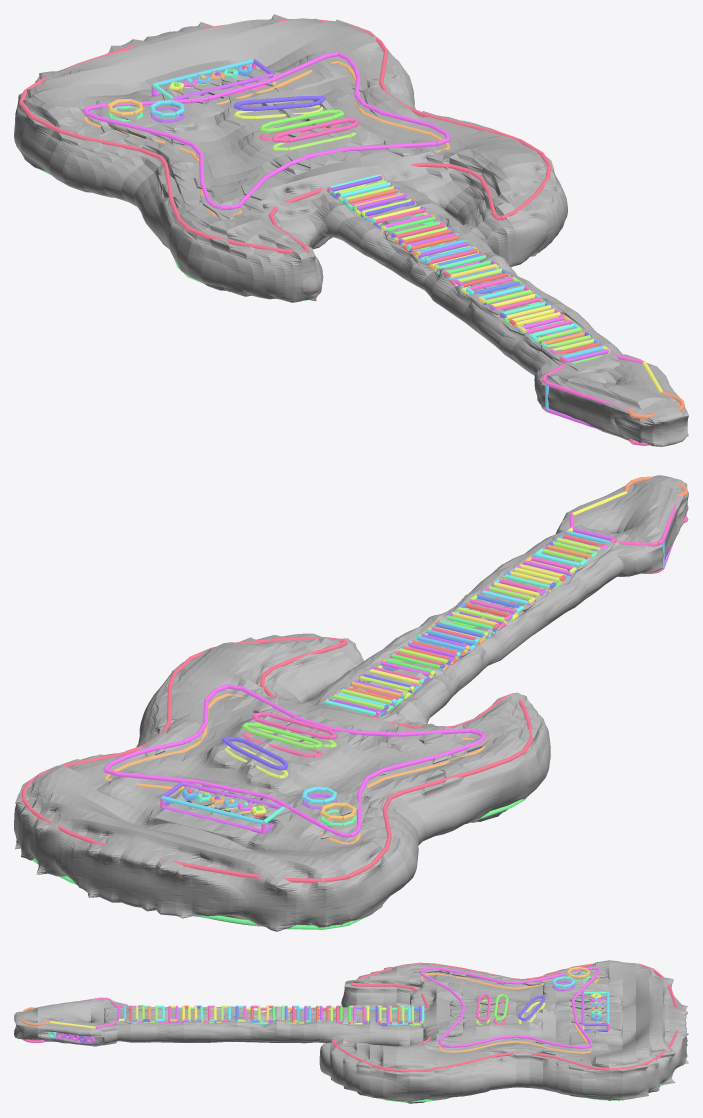
File: onshape_guitar.gltf
The picture shows the model from 3 angles, top to bottom: view 1: azimuth 30°, elevation 25°; view 2: azimuth 150°, elevation 25°; view 3: azimuth 270°, elevation 25°; orthographic projection. The views are drawn at different scales.
Bounding box in the file's own units: 0.381 × 0.0995 × 0.9538.
